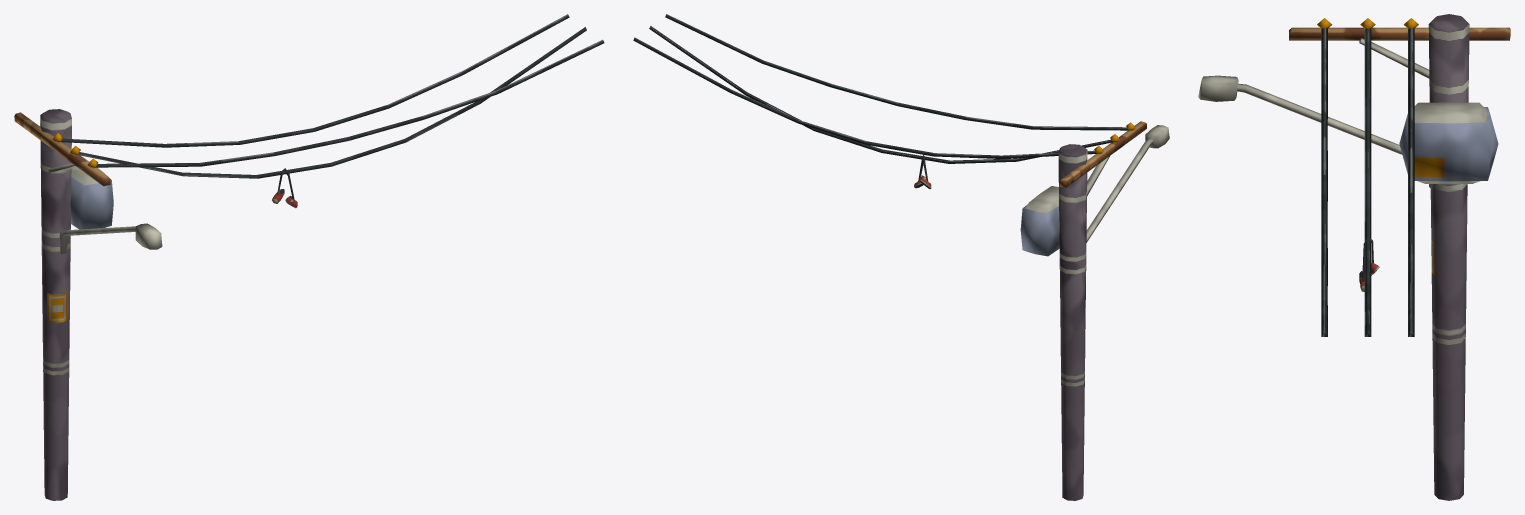
Rendered from LampPost.fbx.
The picture shows the model from 3 angles, left to right: view 1: azimuth 30°, elevation 25°; view 2: azimuth 150°, elevation 25°; view 3: azimuth 270°, elevation 25°; orthographic projection. The views are drawn at different scales.
Visible parts, largest first — view 1: LampPost; view 2: LampPost; view 3: LampPost.
Part boxes in pixels (x1=…): LampPost: x1=14, y1=14, x2=604, y2=500; LampPost: x1=633, y1=14, x2=1169, y2=500; LampPost: x1=1198, y1=14, x2=1510, y2=500.
Size of the model in its own units: 708 by 500 by 299.
